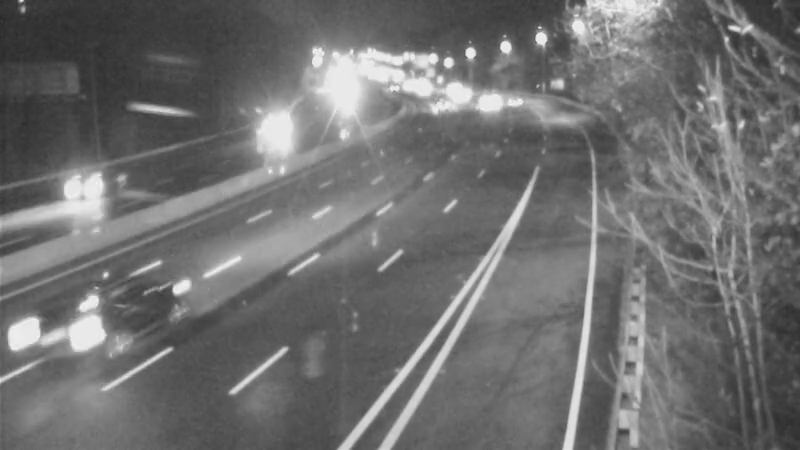vehicle: (1, 268, 111, 378), (39, 148, 119, 228), (432, 68, 482, 118), (459, 78, 509, 128), (489, 71, 539, 121), (408, 80, 458, 130), (248, 111, 298, 161)
